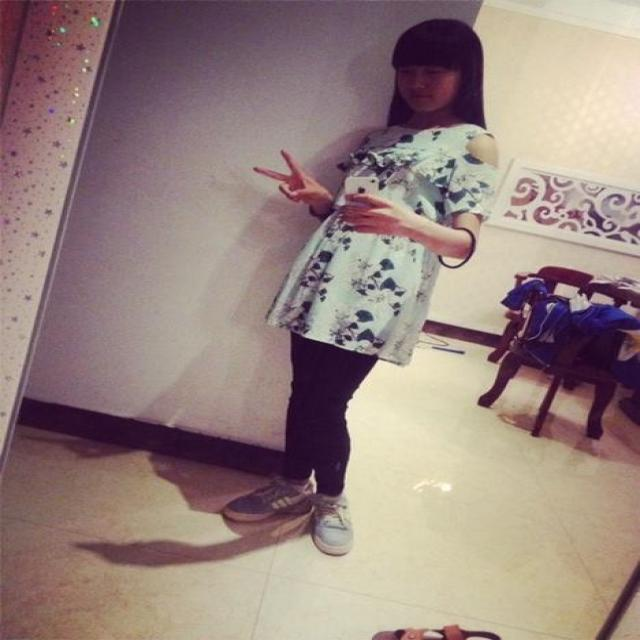short sleeve dress: (268, 125, 496, 365)
trousers: (284, 222, 416, 492)
